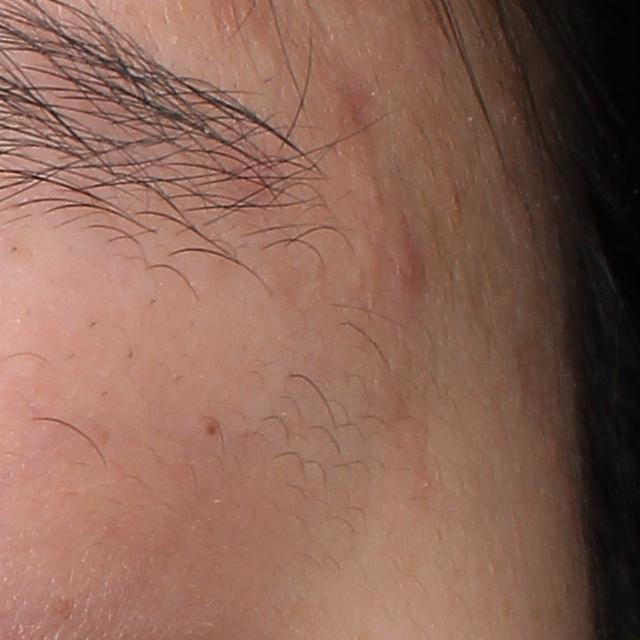nevus: (203, 421, 222, 439)
papule: (388, 235, 423, 288)
